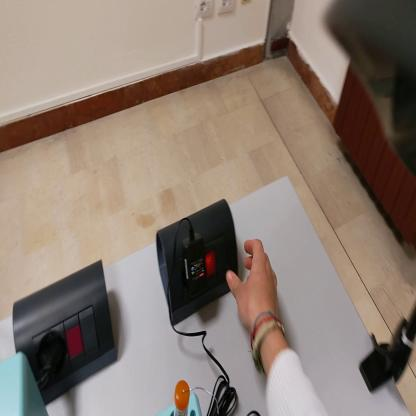hand: (227, 238, 280, 333)
socket: (13, 256, 116, 408), (159, 200, 242, 327)
welder base: (166, 381, 202, 415)
welder station: (2, 354, 49, 415)
